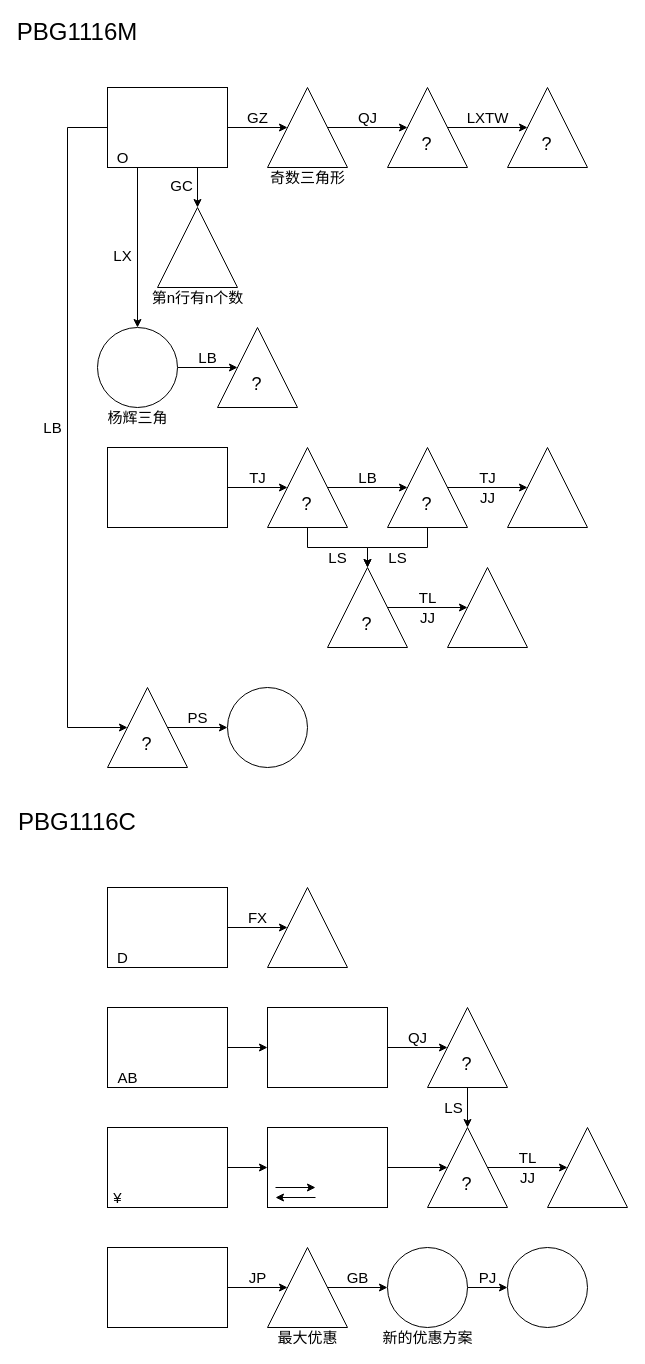
Image size: 645x1364. Some labels were removed from this diagram. The shapes that lost their labels are listed below. From the top down, each one's box as (x1, y1, x2, y2) in pixels, then its label:
(106, 446, 228, 528): Z1
(266, 1006, 388, 1088): abc
